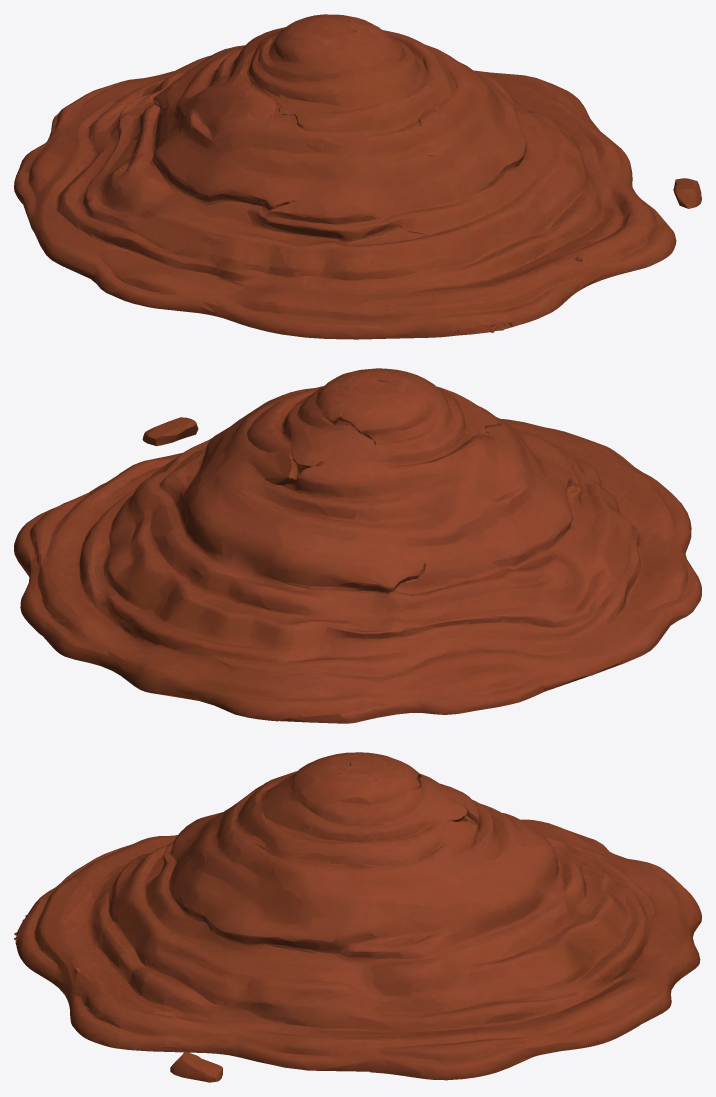
Rendered from resource-clay-final.glb.
3 renders of one model, top to bottom at view 1: azimuth 30°, elevation 25°; view 2: azimuth 150°, elevation 25°; view 3: azimuth 270°, elevation 25°, orthographic. The views are drawn at different scales.
Parts seen in each view (by area): view 1: Mesh_0; view 2: Mesh_0; view 3: Mesh_0.
Boxes of the visible parts, <box> form: Mesh_0: <box>14,14,701,339</box>; Mesh_0: <box>14,368,701,723</box>; Mesh_0: <box>14,752,701,1082</box>.
Bounding box in the file's own units: 0.1671 × 0.05 × 0.1774.
Materials: 1 (1 with a texture image).
